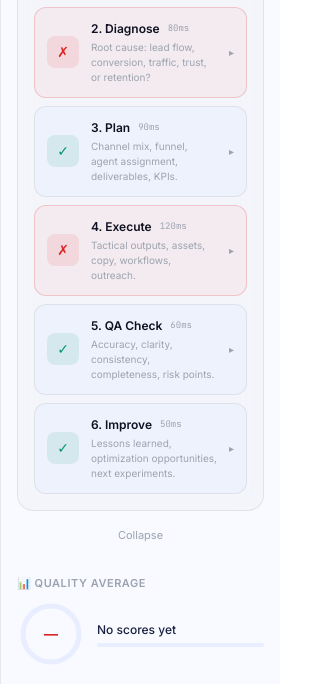
Test: Sidebar › oracle-loop-complete event listener › counts only non-failed steps in summary
(page scrolled)
Step 1. Click the button "Collapse" → click(140, 535), box x1=17 y1=518 x2=264 y2=551
(page scrolled)
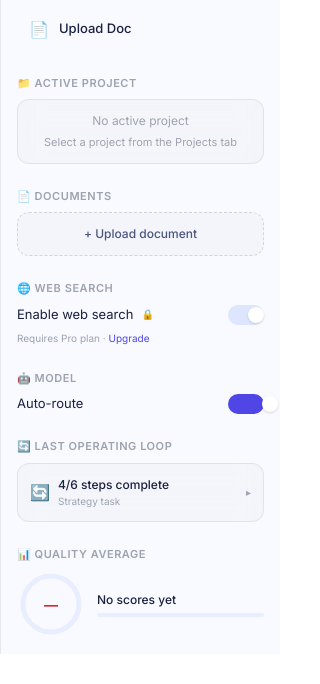
Check: the text "4/6 steps complete" is shown, box x1=58 y1=476 x2=169 y2=492
